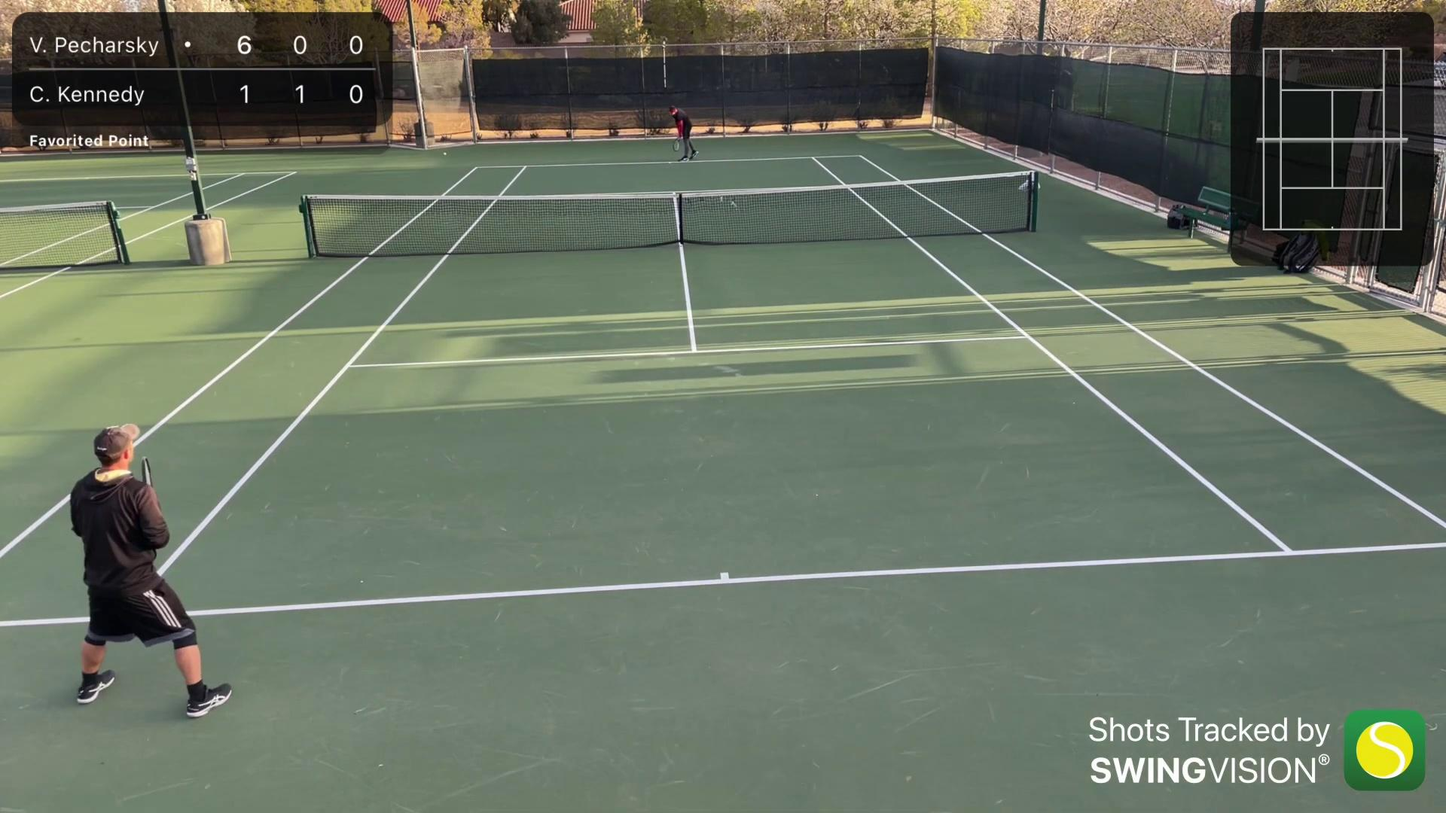ball: (441, 151, 449, 156)
